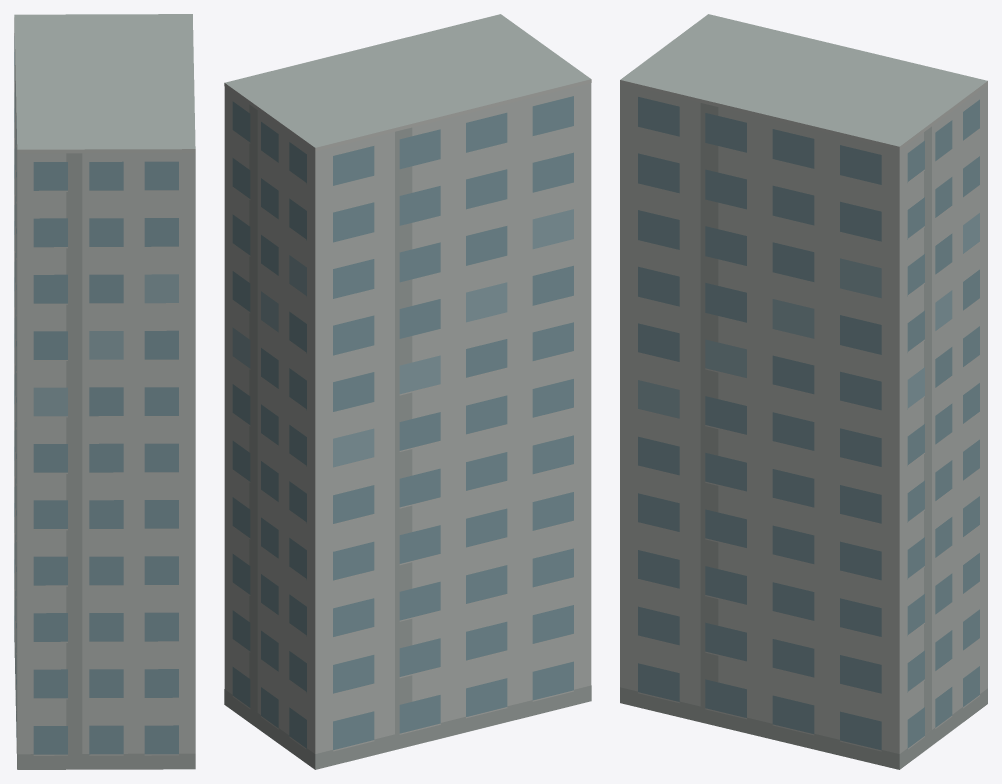
File: residential-87197ab6-46a2-41ae-9420-58b1fb21043a.glb
The picture shows the model from 3 angles, left to right: view 1: azimuth 30°, elevation 25°; view 2: azimuth 150°, elevation 25°; view 3: azimuth 270°, elevation 25°; orthographic projection.
Visible parts, largest first — view 1: residential-87197ab6-46a2-41ae-9420-58b1fb21043a.tmp; view 2: residential-87197ab6-46a2-41ae-9420-58b1fb21043a.tmp; view 3: residential-87197ab6-46a2-41ae-9420-58b1fb21043a.tmp.
Boxes of the visible parts, x1,y1,x2,y2 form: residential-87197ab6-46a2-41ae-9420-58b1fb21043a.tmp: (14,14,195,769); residential-87197ab6-46a2-41ae-9420-58b1fb21043a.tmp: (224,14,591,769); residential-87197ab6-46a2-41ae-9420-58b1fb21043a.tmp: (620,14,987,769).
Bounding box in the file's own units: 18.74 × 41 × 21.94.
